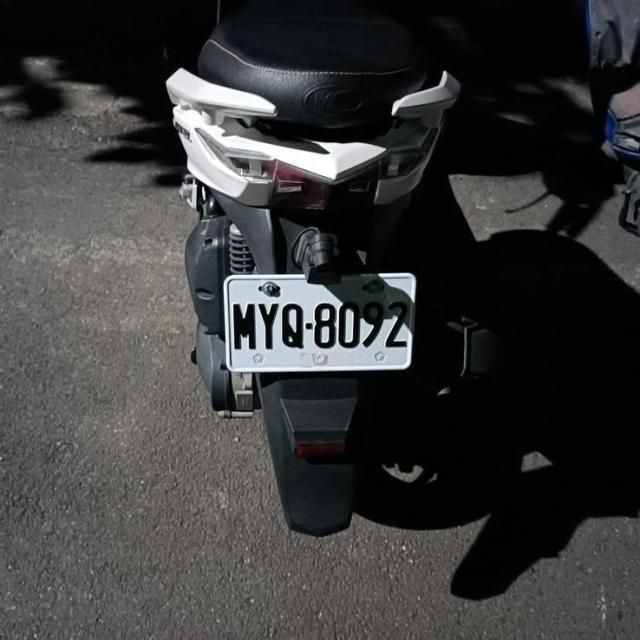W: (220, 266, 421, 376), (614, 168, 640, 275)
